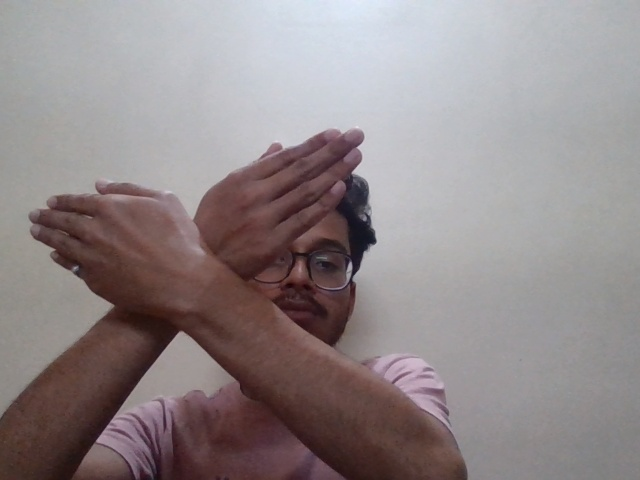feel: (11, 126, 393, 348)
